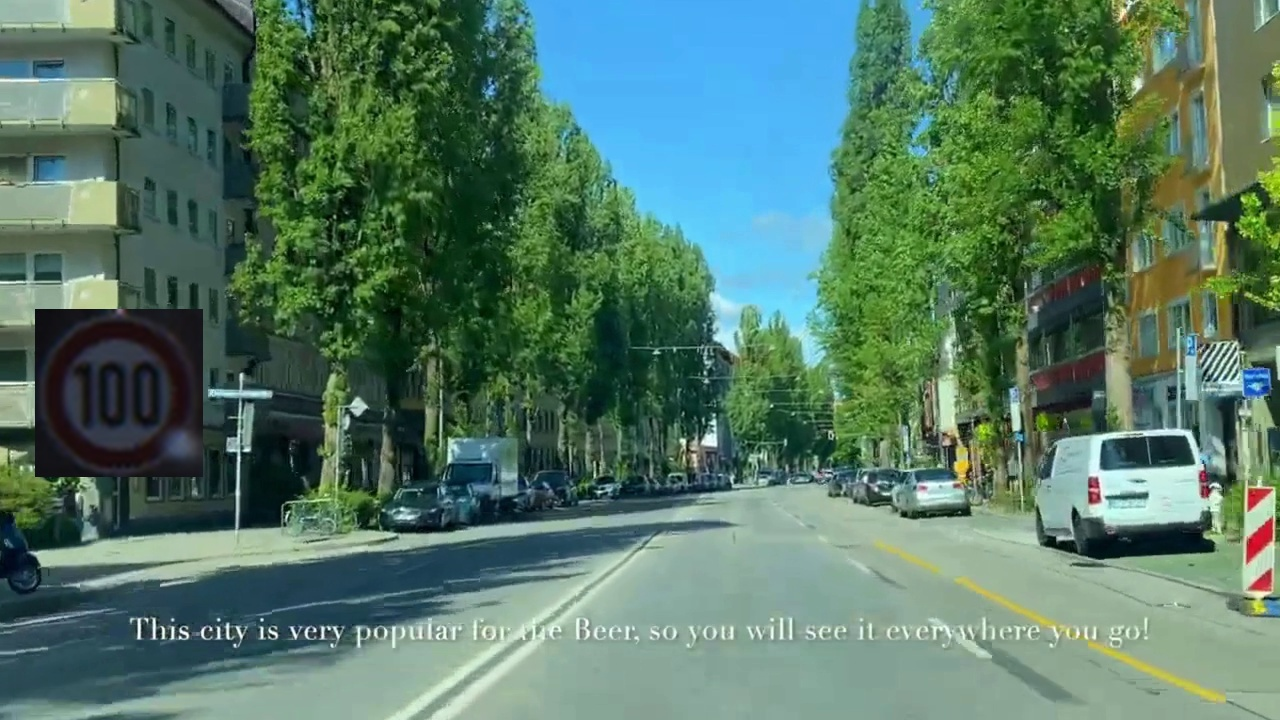Speed 100: (35, 309, 203, 477)
